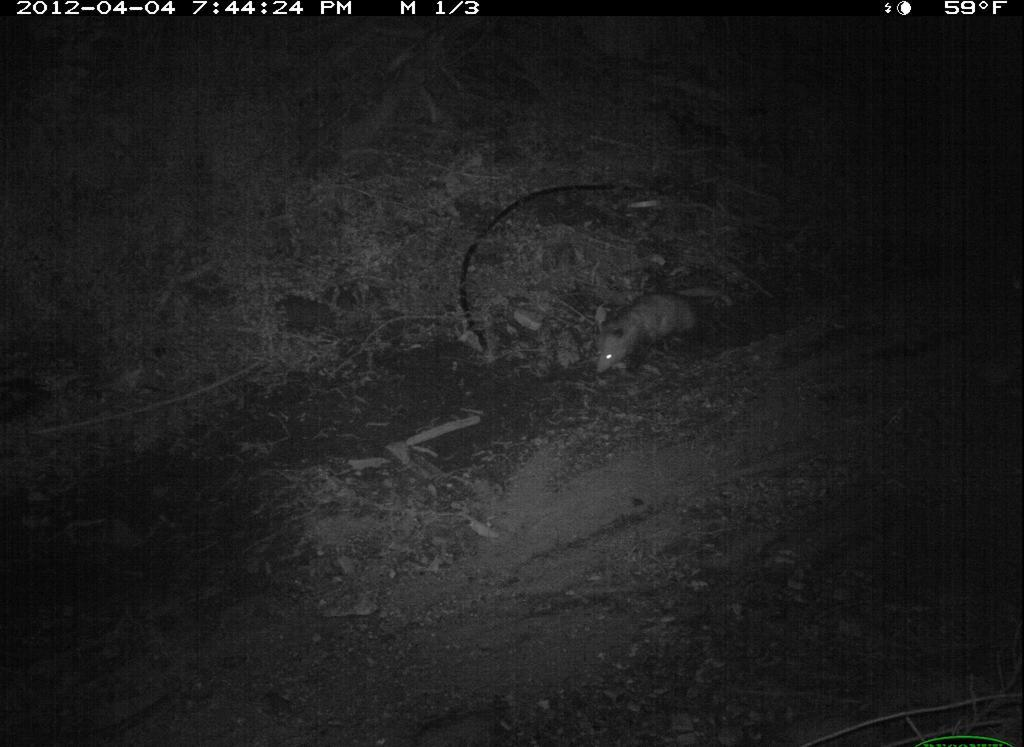opossum: (588, 283, 731, 388)
